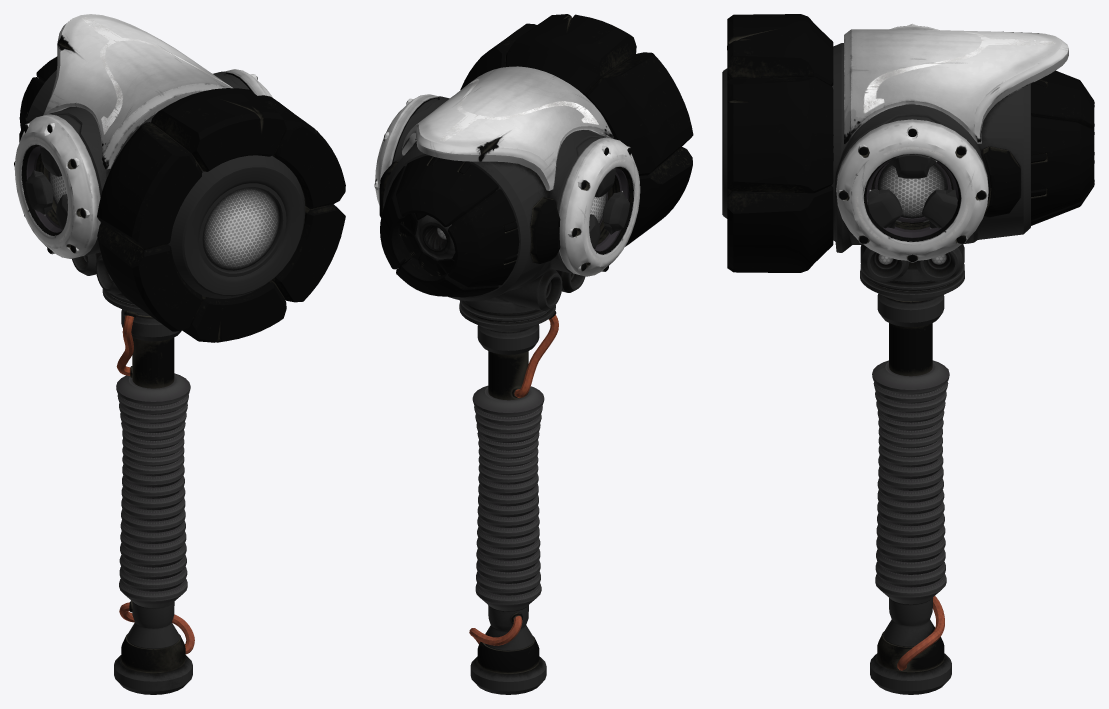
Rendered from wpn_hammer_anim.obj.
3 renders of one model, left to right at view 1: azimuth 30°, elevation 25°; view 2: azimuth 150°, elevation 25°; view 3: azimuth 270°, elevation 25°, orthographic. The views are drawn at different scales.
Parts seen in each view (by area): view 1: wpn_hammer_anim-subset0-LOD_0, wpn_hammer_anim-subset1-LOD_0, wpn_hammer_anim-subset2-LOD_0; view 2: wpn_hammer_anim-subset0-LOD_0, wpn_hammer_anim-subset1-LOD_0; view 3: wpn_hammer_anim-subset0-LOD_0, wpn_hammer_anim-subset1-LOD_0, wpn_hammer_anim-subset2-LOD_0.
Part boxes in pixels (<box>): wpn_hammer_anim-subset0-LOD_0: <box>14,14,345,342</box>; wpn_hammer_anim-subset1-LOD_0: <box>19,69,249,694</box>; wpn_hammer_anim-subset2-LOD_0: <box>49,172,279,270</box>; wpn_hammer_anim-subset0-LOD_0: <box>374,14,693,297</box>; wpn_hammer_anim-subset1-LOD_0: <box>379,96,608,694</box>; wpn_hammer_anim-subset0-LOD_0: <box>722,14,1094,272</box>; wpn_hammer_anim-subset1-LOD_0: <box>831,43,1030,694</box>; wpn_hammer_anim-subset2-LOD_0: <box>877,163,947,218</box>.
Size of what is drawn, in the model's own units: 0.2825 by 0.7903 by 0.4031.
3 materials, 3 textured.
